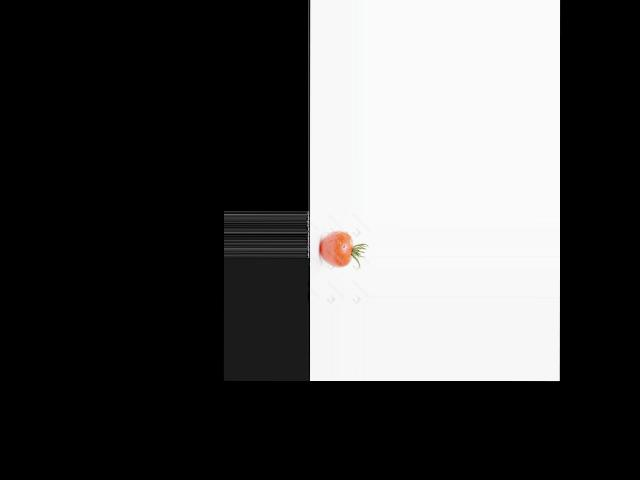tomato: (319, 232, 352, 267)
